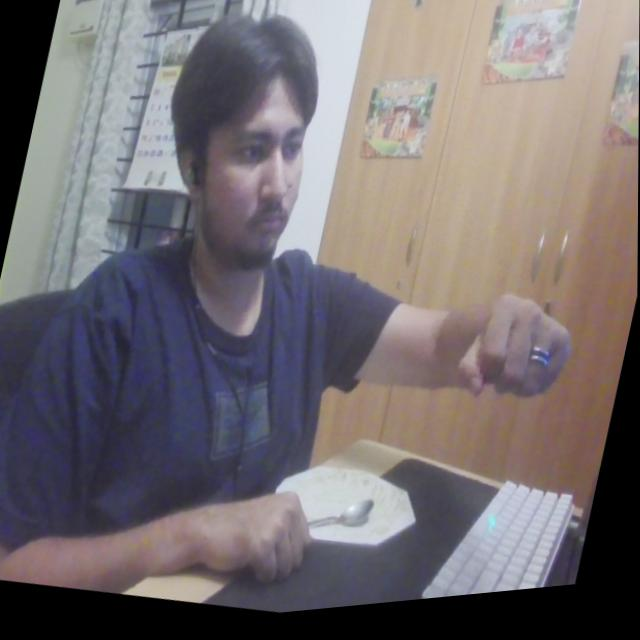yes: (442, 271, 592, 449)
